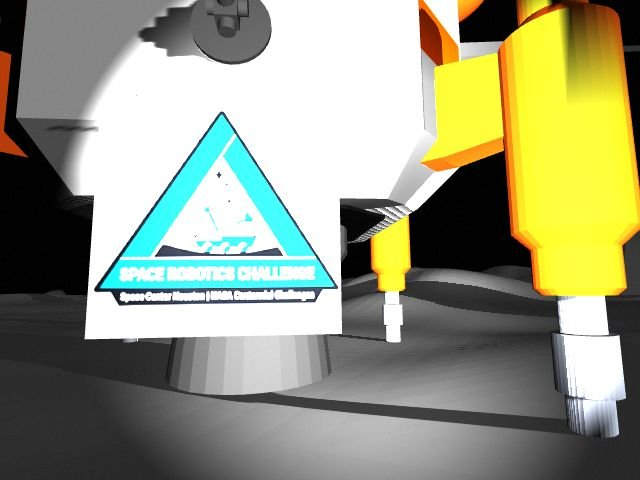basemarker: (92, 110, 338, 306)
